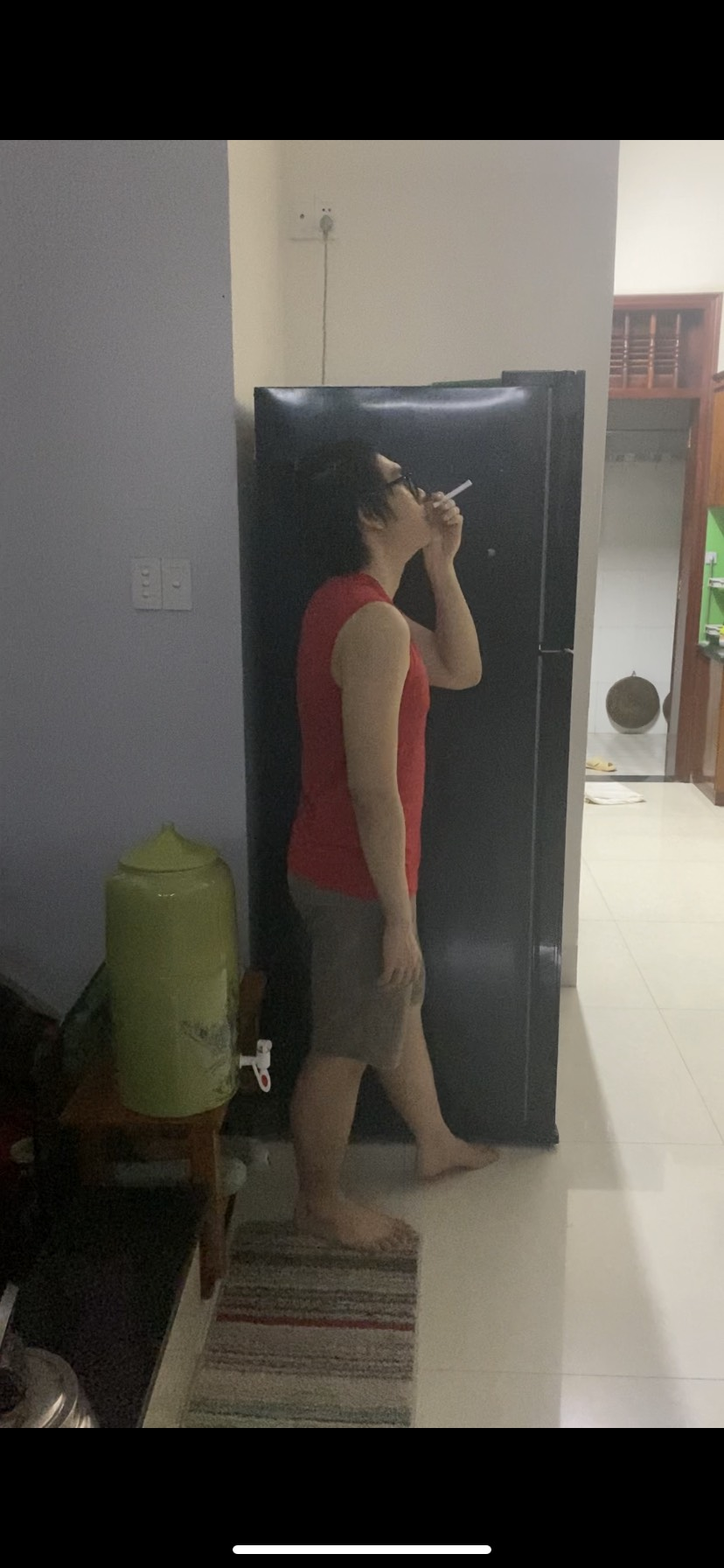cigarette: (443, 474, 477, 503)
person: (260, 407, 505, 1245)
